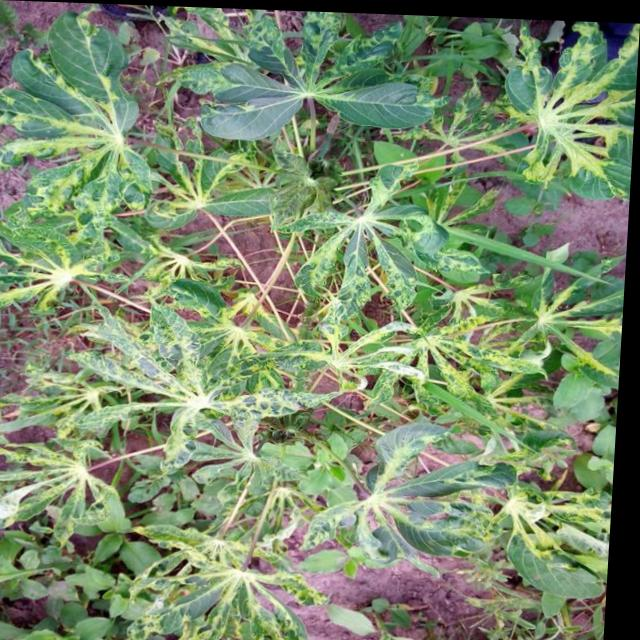Mosaico: (115, 318, 334, 463), (0, 38, 180, 212), (324, 408, 509, 549), (283, 188, 457, 297), (186, 530, 356, 640), (499, 427, 627, 569), (0, 194, 144, 302), (514, 55, 629, 172), (523, 250, 578, 372), (397, 333, 527, 383)
